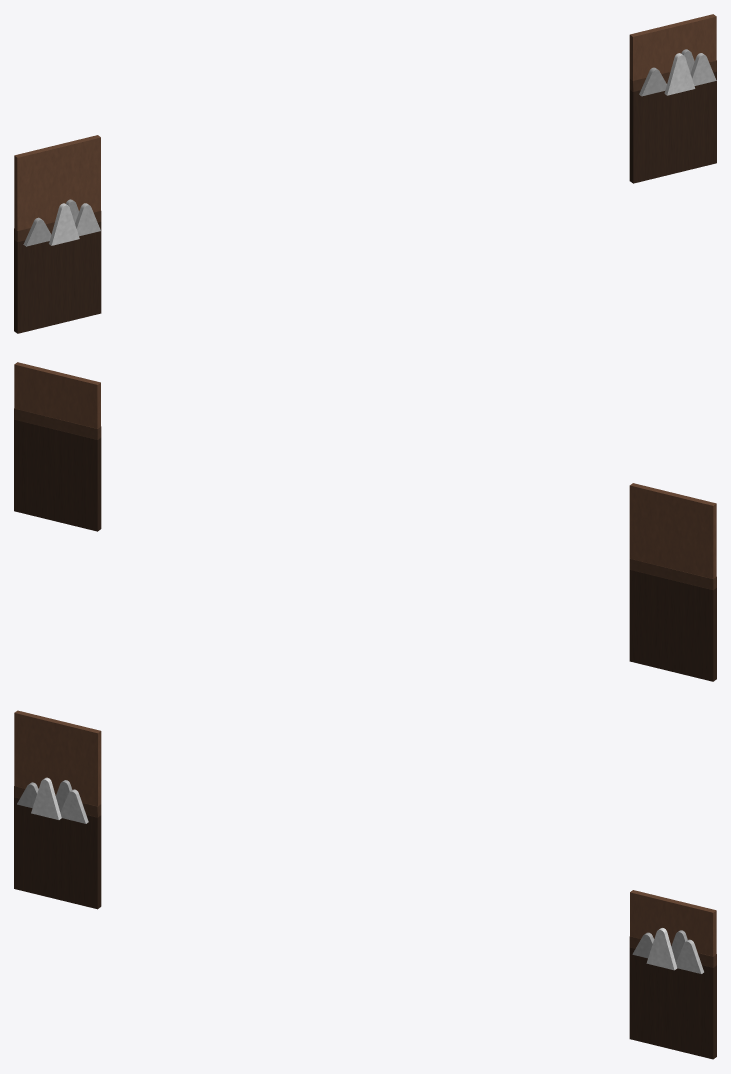
File: ravijn_level2.glb
3 views of the same model, one above another, from view 1: azimuth 30°, elevation 25°; view 2: azimuth 150°, elevation 25°; view 3: azimuth 330°, elevation 25° (orthographic).
Parts seen in each view (by area): view 1: ravijn_L2_01, ravijn_L2_02; view 2: ravijn_L2_01, ravijn_L2_02; view 3: ravijn_L2_01, ravijn_L2_02.
Boxes of the visible parts, x1,y1,x2,y2 form: ravijn_L2_01: [14, 135, 101, 333]; ravijn_L2_02: [629, 14, 716, 183]; ravijn_L2_01: [629, 483, 716, 681]; ravijn_L2_02: [14, 362, 101, 531]; ravijn_L2_01: [14, 710, 101, 909]; ravijn_L2_02: [629, 890, 716, 1059].
Bounding box in the file's own units: 29.99 × 7.21 × 0.91.
Materials: 6 (6 with a texture image).
